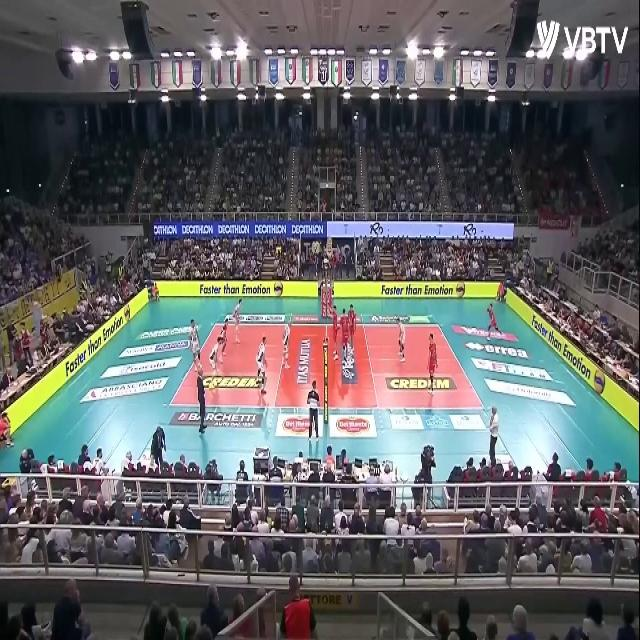volleyball court: (168, 317, 483, 411)
